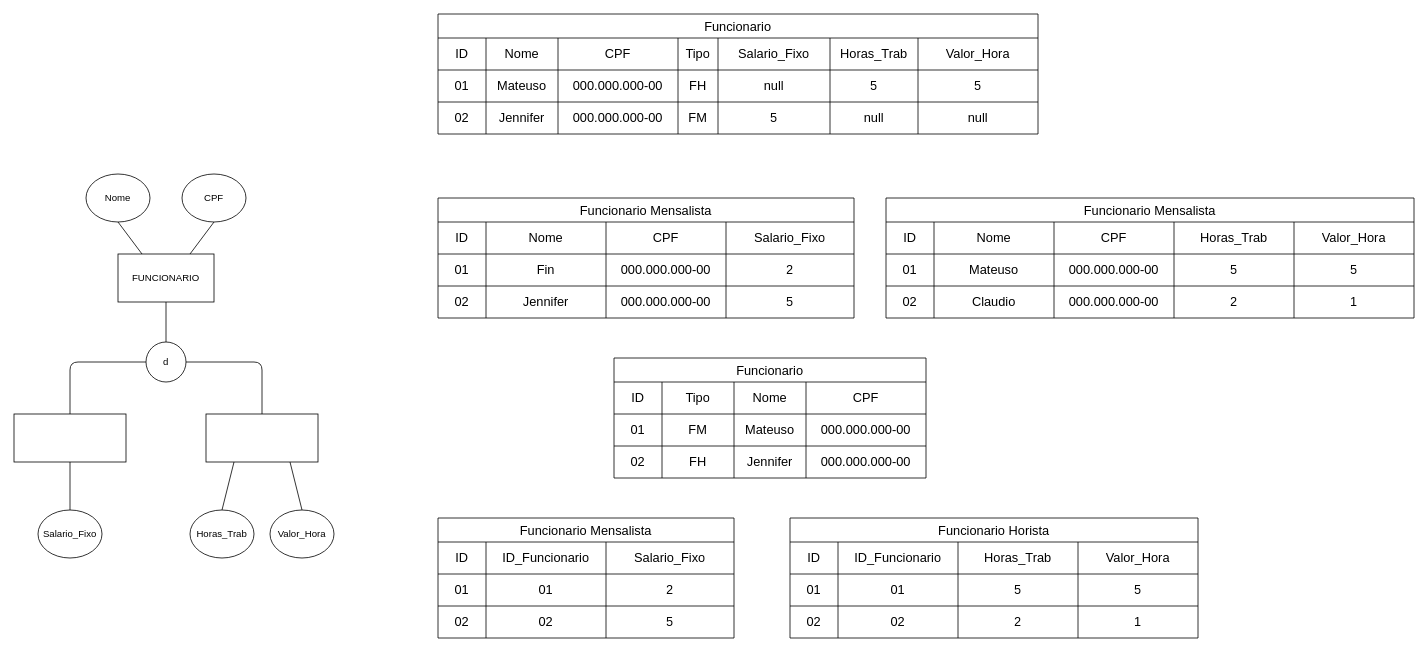
This 1428x652 diagram has some shape labels left out. Each missing label, with the centre of its shape:
"Funcionario_Horista" belongs at (x=261, y=437).
"Funcionario_Mensalista" belongs at (x=69, y=437).
